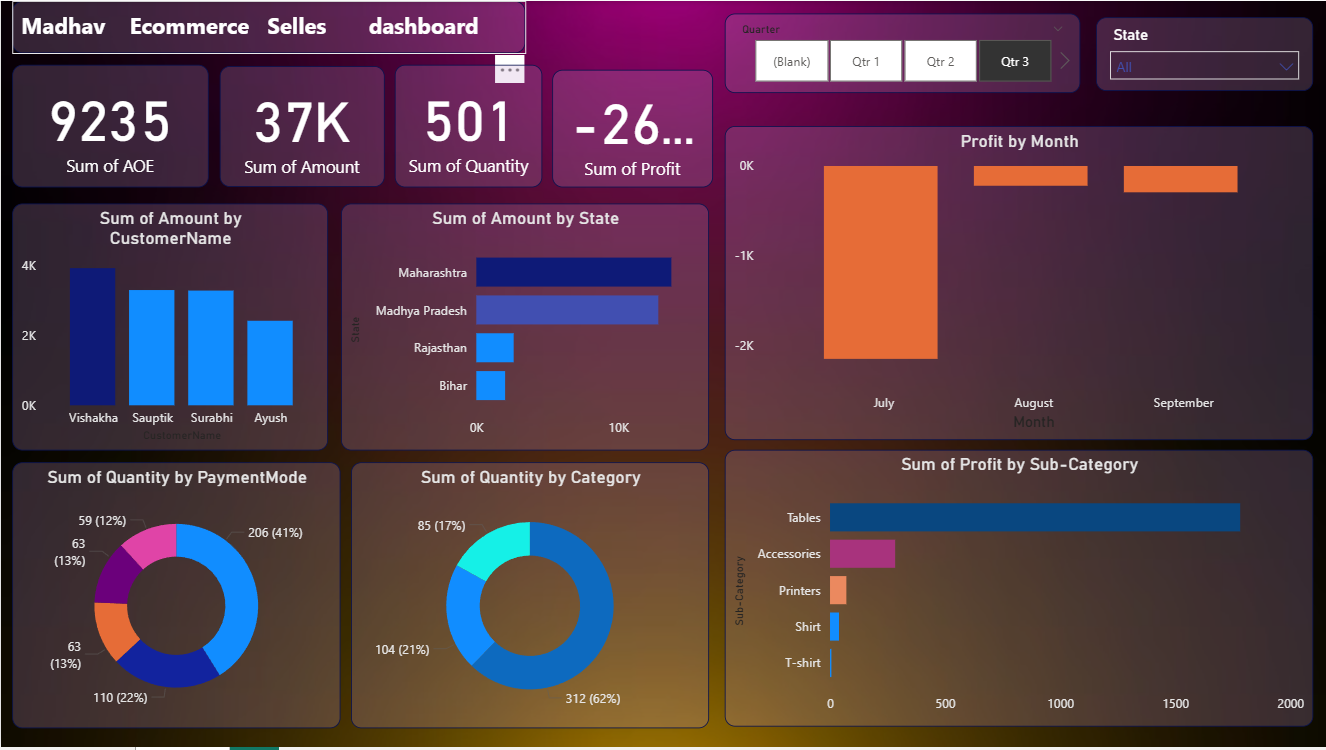

What the dashboard file says about the page in this screenshot:
{"tool":"powerbi","page":{"name":"Page 1","canvas":[1280,720],"ordinal":0},"visuals":[{"type":"textbox","box":[11,0,495.4,50.8],"z":0},{"type":"clusteredColumnChart","title":"Profit by Month","fields":{"Category":["Orders - Orders.Order Date.Variation.Date Hierarchy.Month"],"Y":["Sum(Details - Details.Profit)"]},"box":[698.5,120.8,568.1,303.3],"z":1000},{"type":"barChart","fields":{"Category":["Details - Details.Sub-Category"],"Y":["Sum(Details - Details.Profit)"]},"box":[698.5,433.6,568.1,267.6],"z":2000},{"type":"donutChart","fields":{"Category":["Details - Details.Category"],"Y":["Sum(Details - Details.Quantity)"]},"box":[337.6,444.6,345.8,256.6],"z":3000},{"type":"donutChart","fields":{"Y":["Sum(Details - Details.Quantity)"],"Category":["Details - Details.PaymentMode"]},"box":[11,444.6,317,256.6],"z":4000},{"type":"card","fields":{"Values":["Sum(Details - Details.Amount)"]},"box":[211.3,63.1,159.2,116.6],"z":5000},{"type":"card","fields":{"Values":["Sum(Details - Details.Quantity)"]},"box":[380.1,61.7,142.7,118],"z":6000},{"type":"card","fields":{"Values":["Sum(Details - Details.Profit)"]},"box":[532.4,65.9,155.1,113.9],"z":7000},{"type":"card","fields":{"Values":["Sum(Details - Details.AOE)"]},"box":[11,61.7,189.4,118],"z":8000},{"type":"barChart","fields":{"Category":["Orders - Orders.State"],"Y":["Sum(Details - Details.Amount)"]},"box":[328,194.9,355.4,238.8],"z":9000},{"type":"columnChart","fields":{"Category":["Orders - Orders.CustomerName"],"Y":["Sum(Details - Details.Amount)"]},"box":[11,194.9,304.6,238.8],"z":10000},{"type":"slicer","fields":{"Values":["Orders - Orders.Order Date.Variation.Date Hierarchy.Quarter"]},"box":[698.5,12.3,343.1,76.8],"z":11000},{"type":"slicer","fields":{"Values":["Orders - Orders.State"]},"box":[1056.6,15.1,209.9,71.4],"z":12000}]}

Visuals, with their boxes in screenshot pixels (x1, y1, x2, y2), scaled from the page's 1280x720 canvas onto the 1326x750 screenshot:
textbox: 11 0 525 53
"Profit by Month" clusteredColumnChart: 724 126 1312 442
barChart - Details - Details.Sub-Category x Sum(Details - Details.Profit): 724 452 1312 730
donutChart - Details - Details.Category x Sum(Details - Details.Quantity): 350 463 708 730
donutChart - Sum(Details - Details.Quantity) x Details - Details.PaymentMode: 11 463 340 730
card - Sum(Details - Details.Amount): 219 66 384 187
card - Sum(Details - Details.Quantity): 394 64 542 187
card - Sum(Details - Details.Profit): 552 69 712 187
card - Sum(Details - Details.AOE): 11 64 208 187
barChart - Orders - Orders.State x Sum(Details - Details.Amount): 340 203 708 452
columnChart - Orders - Orders.CustomerName x Sum(Details - Details.Amount): 11 203 327 452
slicer - Orders - Orders.Order Date.Variation.Date Hierarchy.Quarter: 724 13 1079 93
slicer - Orders - Orders.State: 1095 16 1312 90
